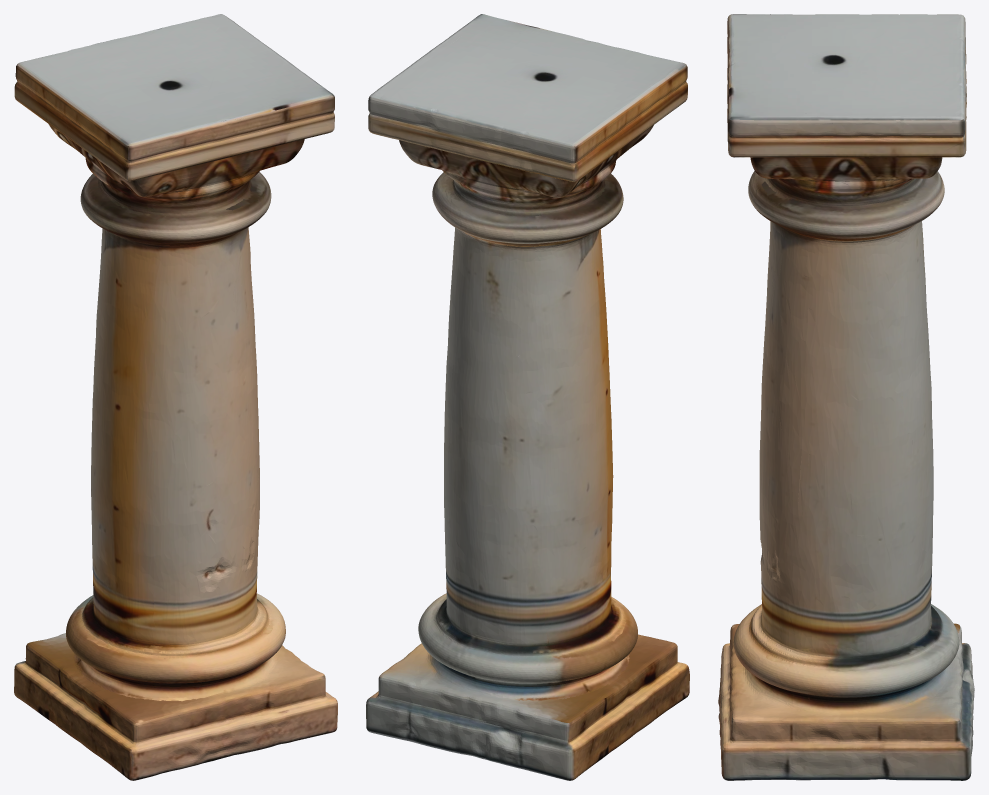
Rendered from weathered-monolith-pillar-generated-2026-04-18t22-01-36-007z-texture-wrap-2026-04-18T23-14-30-195Z.high.glb.
3 views of the same model, side by side, from view 1: azimuth 30°, elevation 25°; view 2: azimuth 150°, elevation 25°; view 3: azimuth 270°, elevation 25° (orthographic). The views are drawn at different scales.
Parts seen in each view (by area): view 1: temp_mesh.ply; view 2: temp_mesh.ply; view 3: temp_mesh.ply.
Boxes of the visible parts, x1,y1,x2,y2 form: temp_mesh.ply: [14, 14, 337, 780]; temp_mesh.ply: [366, 14, 689, 780]; temp_mesh.ply: [718, 14, 974, 780].
Size of the model in its own units: 0.6844 by 1.97 by 0.6911.
1 material, 1 textured.
